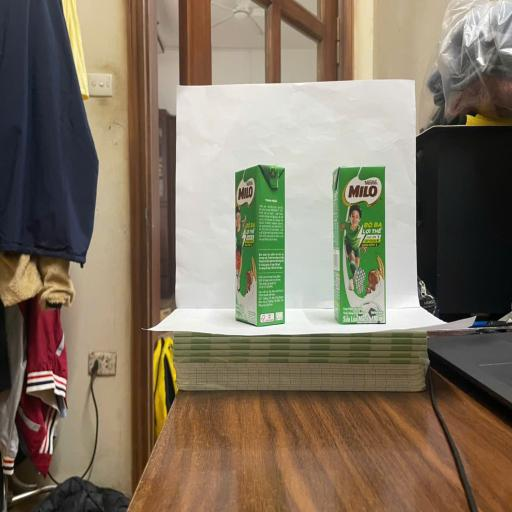milo: (234, 164, 286, 326), (333, 167, 386, 325)
